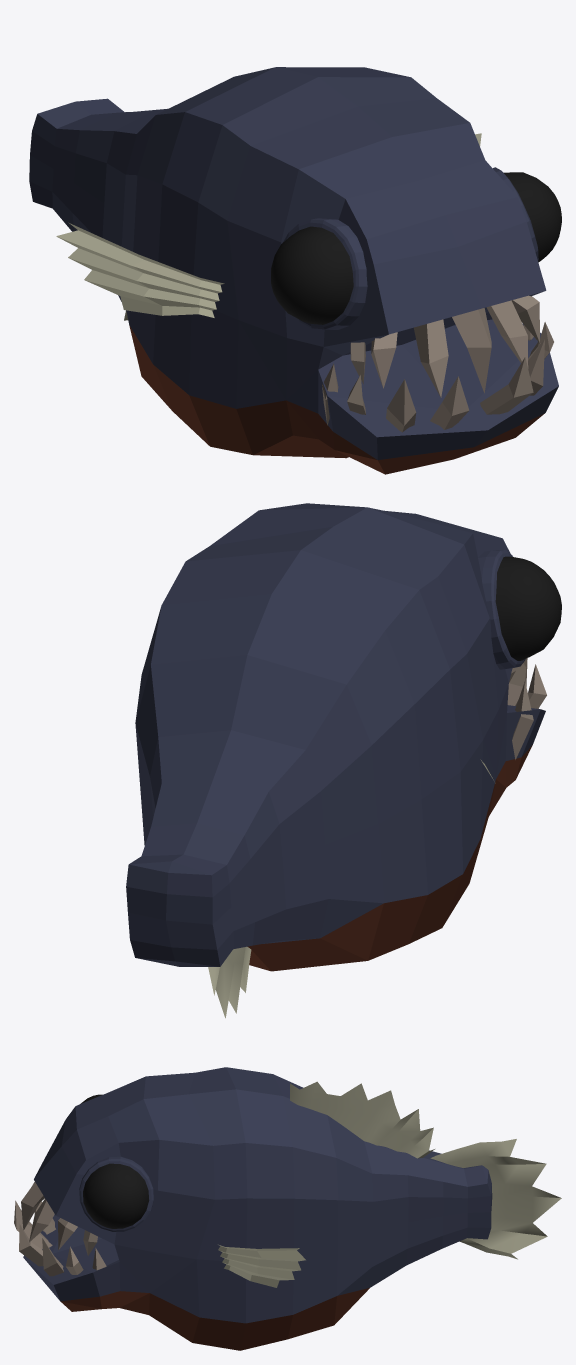
The model's file is piranha.glb.
3 renders of one model, top to bottom at view 1: azimuth 30°, elevation 25°; view 2: azimuth 150°, elevation 25°; view 3: azimuth 270°, elevation 25°, orthographic. The views are drawn at different scales.
Visible parts, largest first — view 1: Piranha_Cube.040; view 2: Piranha_Cube.040; view 3: Piranha_Cube.040.
Part boxes in pixels (x1=…): Piranha_Cube.040: x1=29, y1=67, x2=561, y2=474; Piranha_Cube.040: x1=126, y1=503, x2=561, y2=1018; Piranha_Cube.040: x1=14, y1=1067, x2=561, y2=1350.
Bounding box in the file's own units: 3.12 × 2.4 × 4.74.
